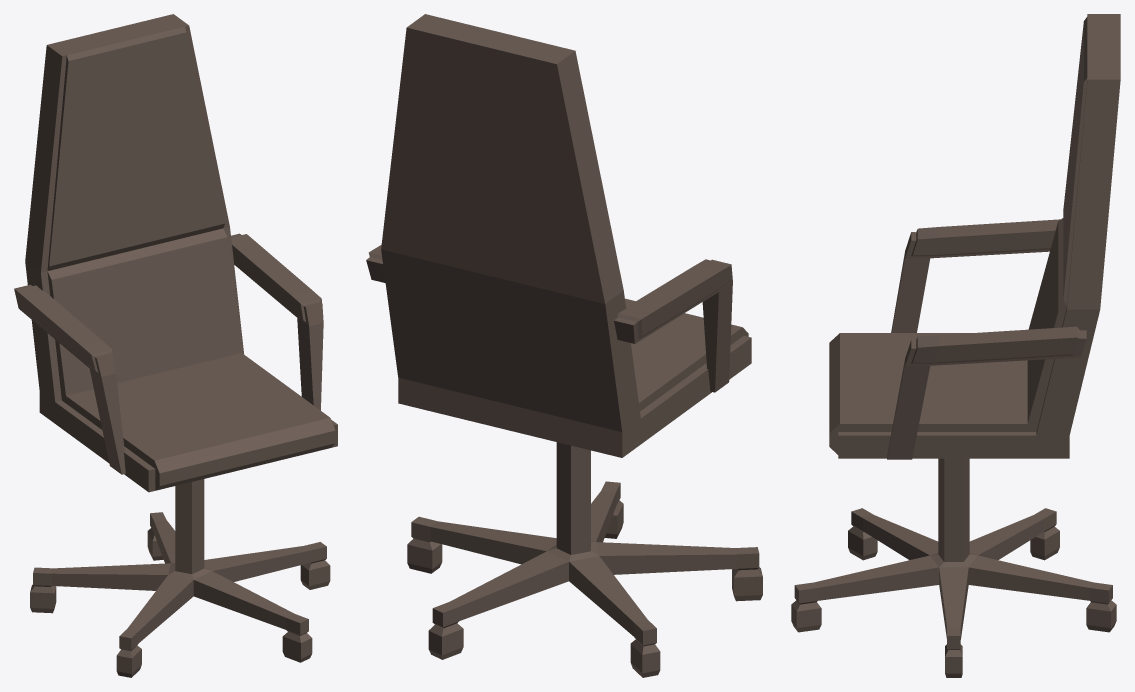
The model's file is OfficeChair.fbx.glb.
3 views of the same model, side by side, from view 1: azimuth 30°, elevation 25°; view 2: azimuth 150°, elevation 25°; view 3: azimuth 270°, elevation 25° (orthographic). The views are drawn at different scales.
Visible parts, largest first — view 1: OfficeChair.1; view 2: OfficeChair.1; view 3: OfficeChair.1.
Part boxes in pixels (x1=…): OfficeChair.1: x1=14, y1=14, x2=337, y2=677; OfficeChair.1: x1=366, y1=14, x2=762, y2=677; OfficeChair.1: x1=791, y1=14, x2=1120, y2=677.
Size of the model in its own units: 67.85 by 136 by 72.25.
